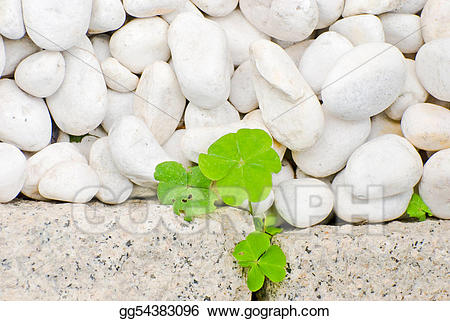oxalis: (169, 130, 302, 293)
